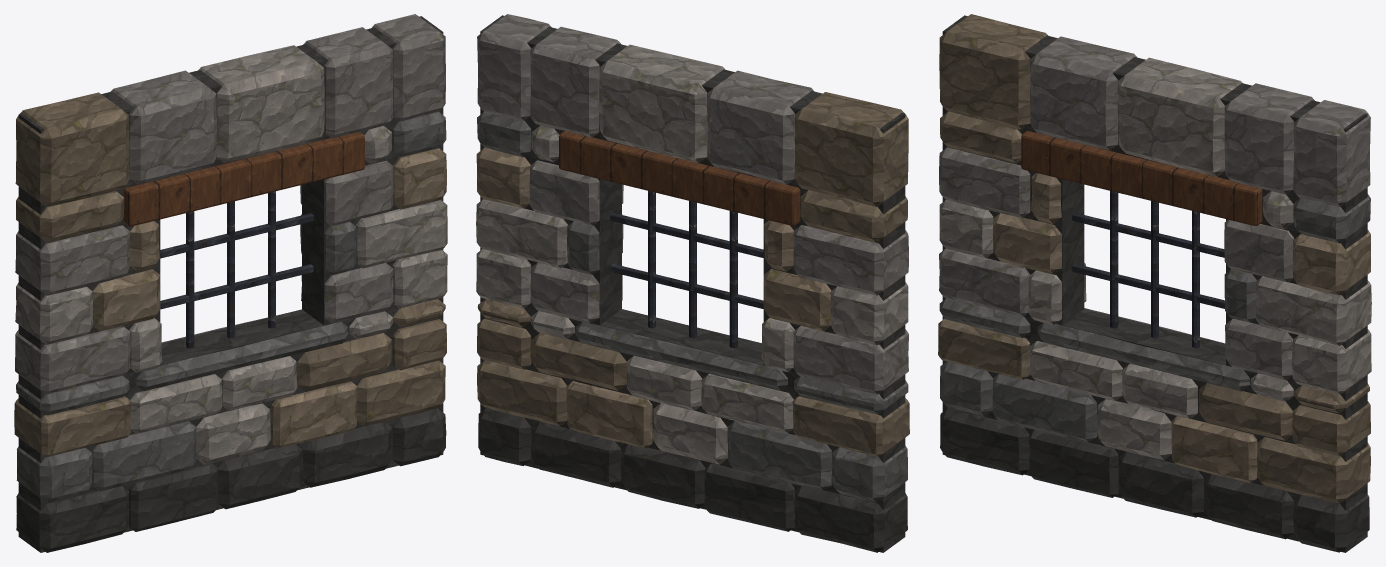
The model's file is window_wall__cut_stone.glb.
3 renders of one model, left to right at view 1: azimuth 30°, elevation 25°; view 2: azimuth 150°, elevation 25°; view 3: azimuth 330°, elevation 25°, orthographic.
Parts seen in each view (by area): view 1: model; view 2: model; view 3: model.
Boxes of the visible parts, left/top/right/bottom form: model: left=14, top=14, right=447, bottom=552; model: left=476, top=14, right=909, bottom=552; model: left=938, top=14, right=1371, bottom=552.
Size of the model in its own units: 1.99 by 1.99 by 0.2862.
Materials: 10 (10 with a texture image).
